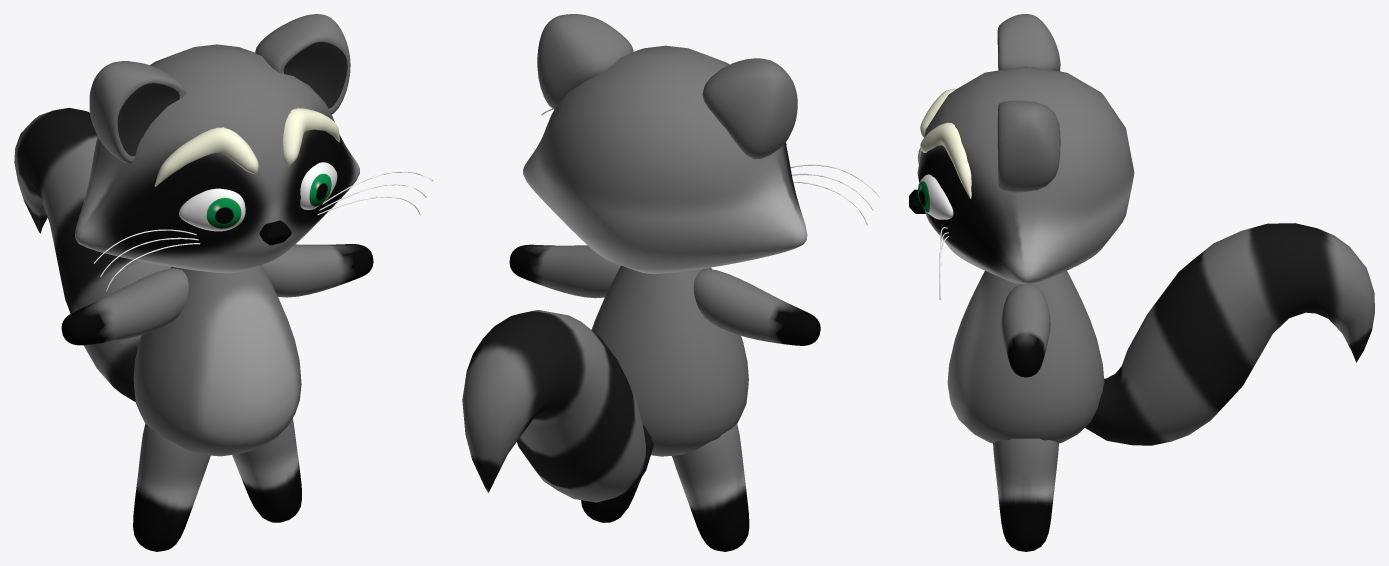
The model's file is mapachefinal.fbx.
3 renders of one model, left to right at view 1: azimuth 30°, elevation 25°; view 2: azimuth 150°, elevation 25°; view 3: azimuth 270°, elevation 25°, orthographic. The views are drawn at different scales.
Visible parts, largest first — view 1: Cabeza1, Plane, Cola, Cube, Plane.002, Plane.001, Plane.005, Plane.004, NurbsPath.002, Cube.001; view 2: Cabeza1, Cola, Plane, Cube, Plane.001, Plane.002, NurbsPath.002; view 3: Cola, Cabeza1, Plane, Cube, Plane.002, Plane.001, Plane.005, Plane.004.
Part boxes in pixels (box(x1,y1,x2,y2)): Cabeza1: box(75, 44, 359, 273); Plane: box(133, 265, 301, 456); Cola: box(14, 108, 170, 402); Cube: box(89, 14, 350, 163); Plane.002: box(133, 418, 301, 551); Plane.001: box(61, 244, 373, 345); Plane.005: box(154, 108, 339, 186); Plane.004: box(179, 162, 337, 231); NurbsPath.002: box(93, 171, 433, 291); Cube.001: box(259, 220, 291, 245); Cabeza1: box(523, 45, 807, 273); Cola: box(462, 310, 653, 502); Plane: box(591, 265, 748, 456); Cube: box(537, 14, 797, 158); Plane.001: box(509, 244, 820, 345); Plane.002: box(581, 424, 749, 551); NurbsPath.002: box(541, 108, 880, 225); Cola: box(1085, 223, 1374, 445); Cabeza1: box(917, 66, 1134, 284); Plane: box(947, 271, 1104, 443); Cube: box(997, 14, 1060, 192); Plane.002: box(993, 438, 1058, 551); Plane.001: box(1001, 284, 1050, 377); Plane.005: box(920, 88, 971, 198); Plane.004: box(917, 147, 953, 219).
Bounding box in the file's own units: 333 × 463 × 424.
Materials: 11 (6 with a texture image).
